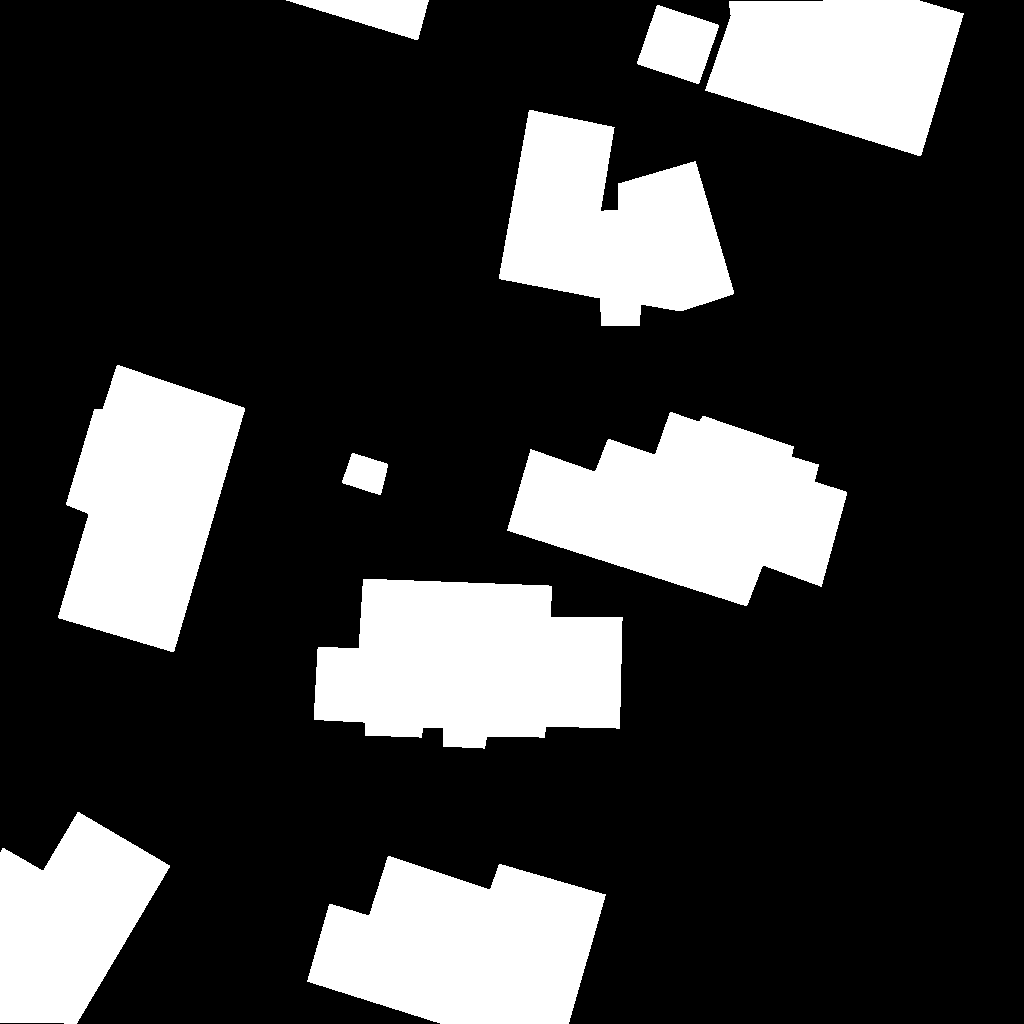building: (507, 412, 848, 607), (58, 365, 246, 653), (314, 579, 623, 749), (499, 110, 735, 326), (307, 856, 607, 1024), (705, 0, 965, 157), (0, 812, 171, 1024), (637, 5, 720, 85), (285, 0, 430, 41), (342, 453, 389, 496)
